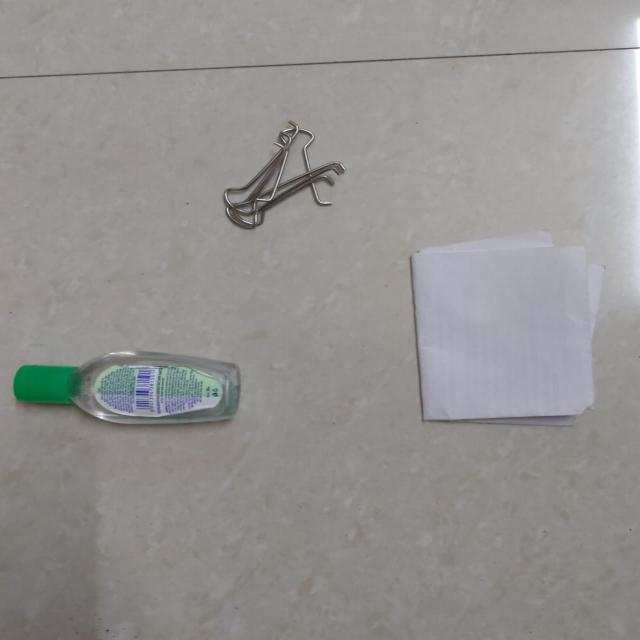dry: (407, 227, 608, 423), (10, 348, 244, 429), (216, 118, 350, 233)
